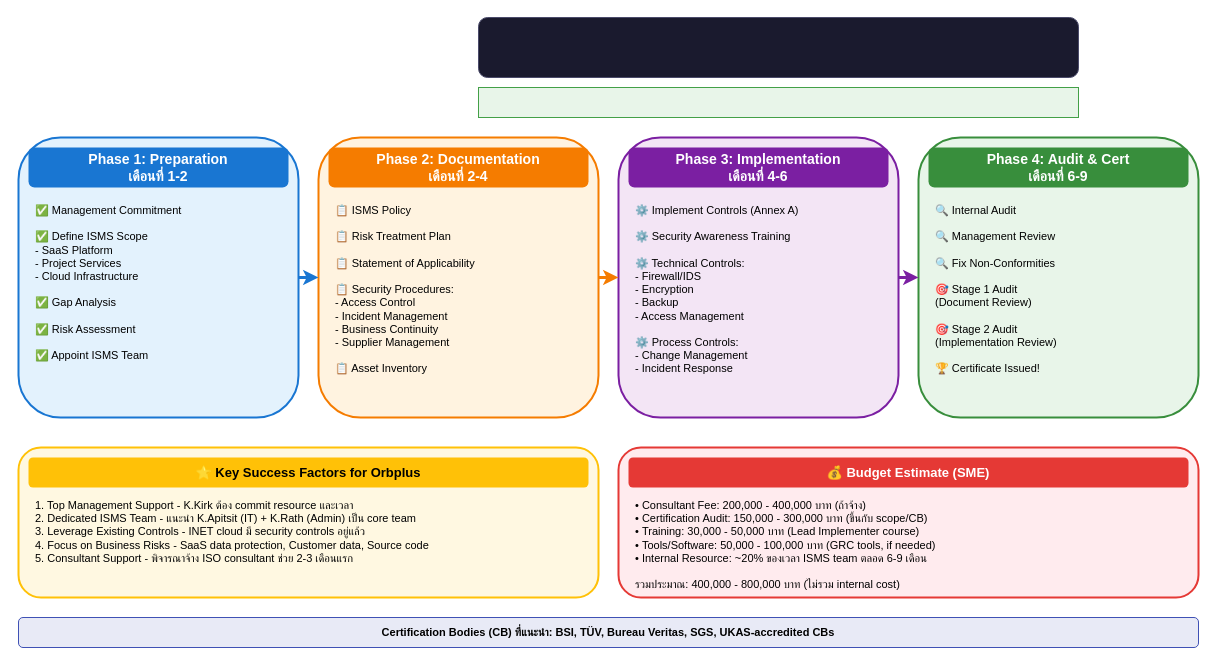
The diagram is 1216 pixels wide and 665 high, and some of its shapes have lost their labels. Each missing label, with the box of its shape:
Timeline: 6-9 เดือน (สำหรับ SME): (478, 86, 1078, 118)
🏆 ISO 27001 Implementation Roadmap Orbplus - SaaS & Project-Based Business: (478, 16, 1078, 78)
